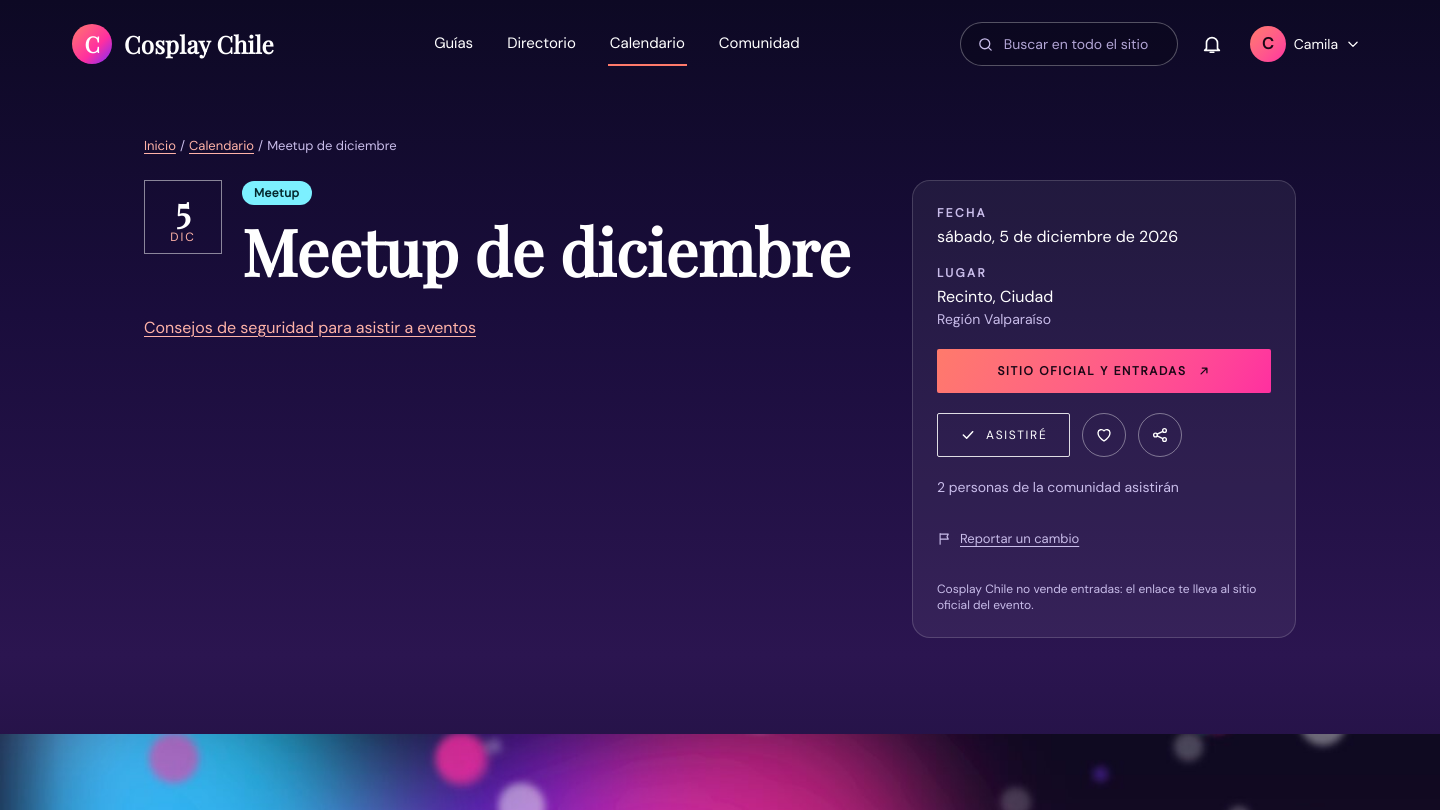
Test case: Detalle de evento › permite marcar «Asistiré» con sesión
Check: the text "2 personas de la comunidad asistirán" is shown, box [937,478,1179,496]
Click the button "Asistiré" at (1004, 434), box [937,412,1070,456]
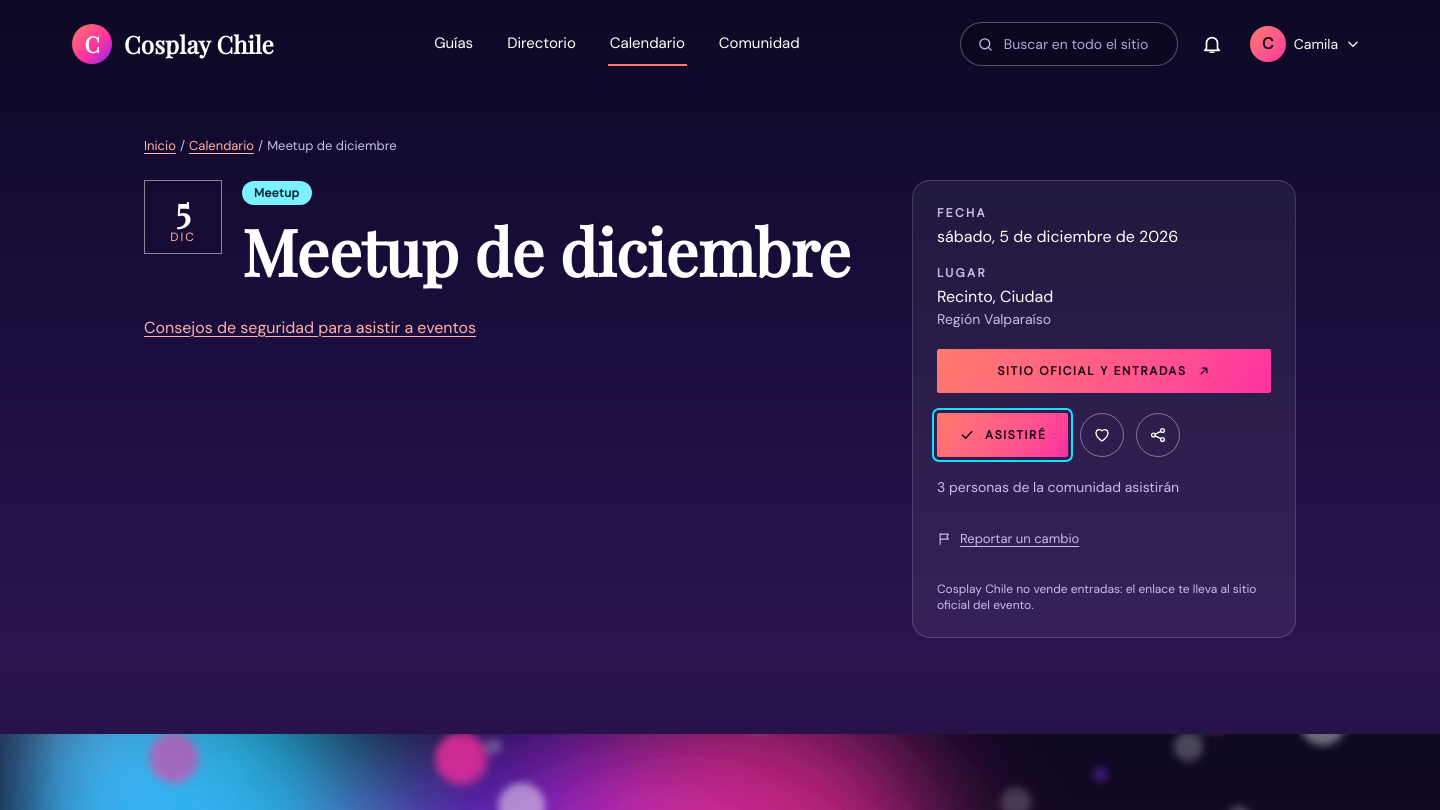
Check: the text "3 personas de la comunidad asistirán" is shown, box [937,478,1179,496]
